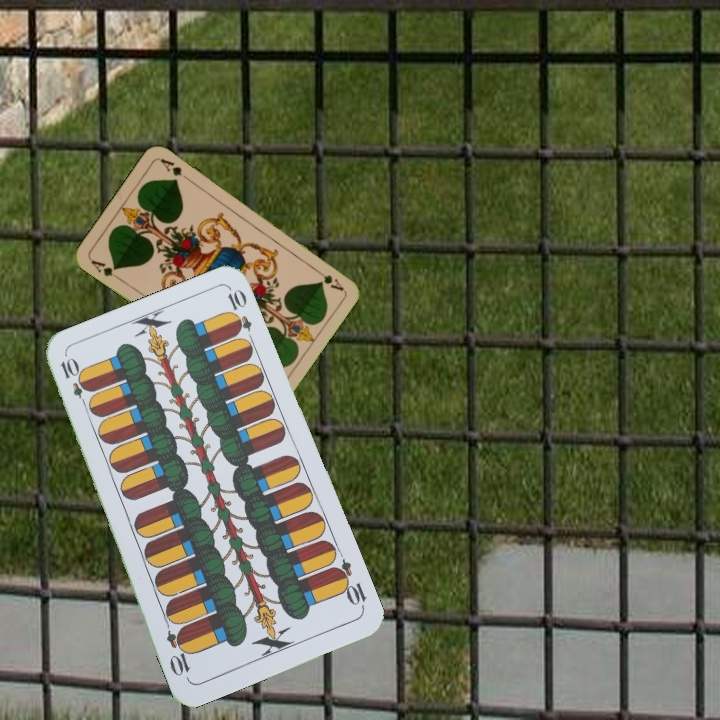E10: (329, 555, 369, 612), (56, 354, 92, 411)
GA: (310, 264, 346, 293), (86, 256, 123, 283)
